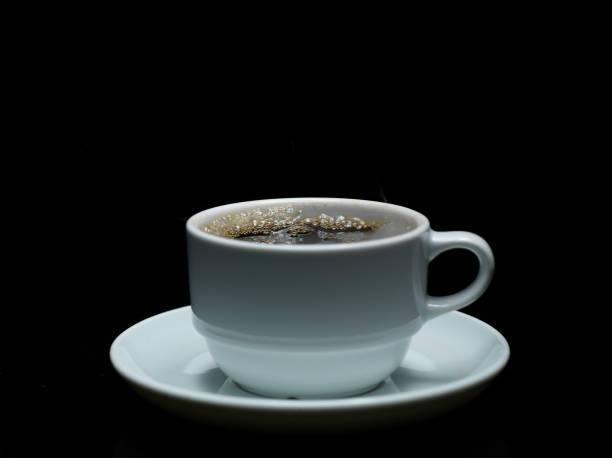cup-handle: (185, 195, 495, 399)
